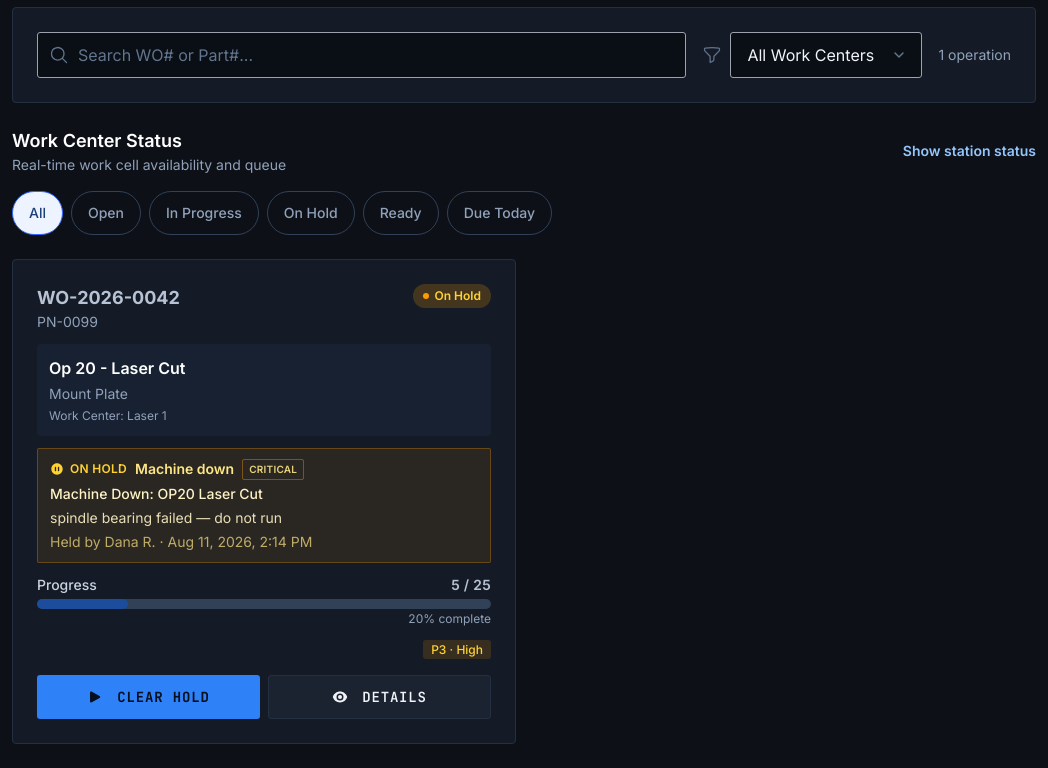
Test: ShopFloorSimple Clear Hold › reports a clean lift as success
The width and height of the screenshot is (1048, 768).
(page scrolled)
Check: the element with test id "shop-floor-op-202" is shown, box [12,258,516,744]
Click the button with test id "shop-floor-clear-hold-202".
click(148, 696)  # box [37,674,260,718]
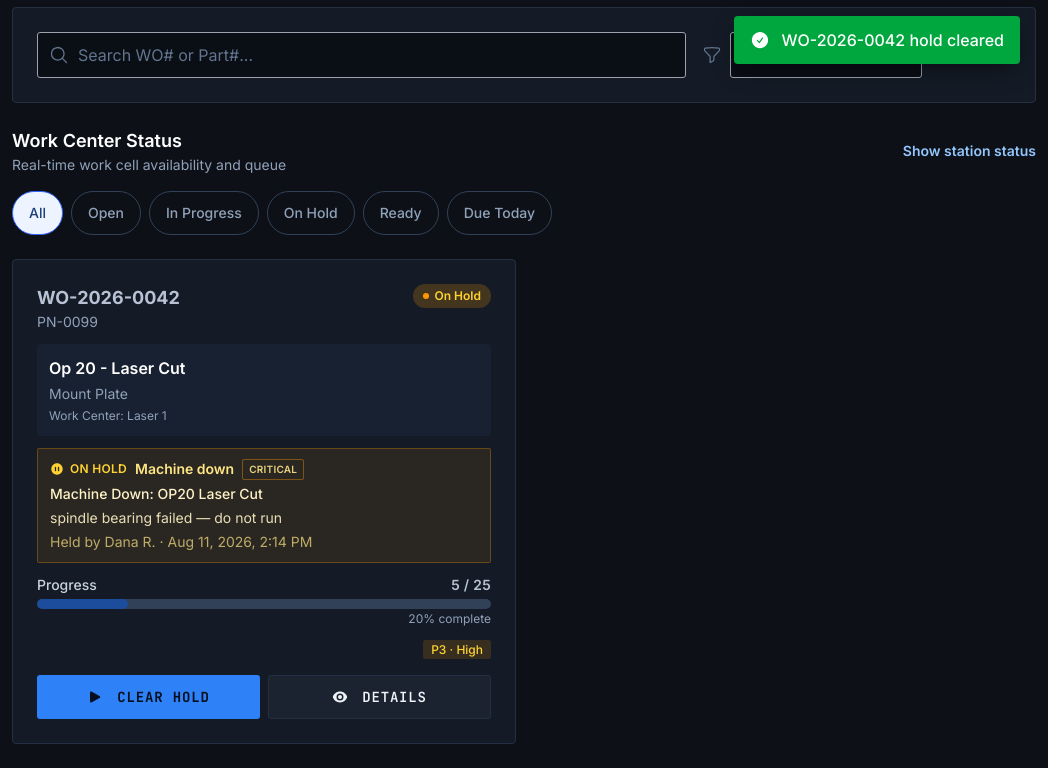
Check: the text "WO-2026-0042 hold cleared" is shown, box [782,28,1004,52]
